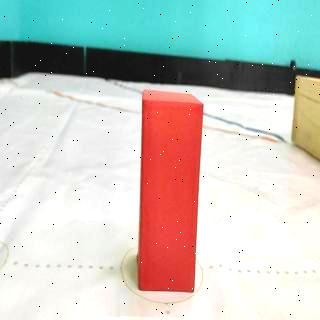redbox: (138, 90, 204, 292)
